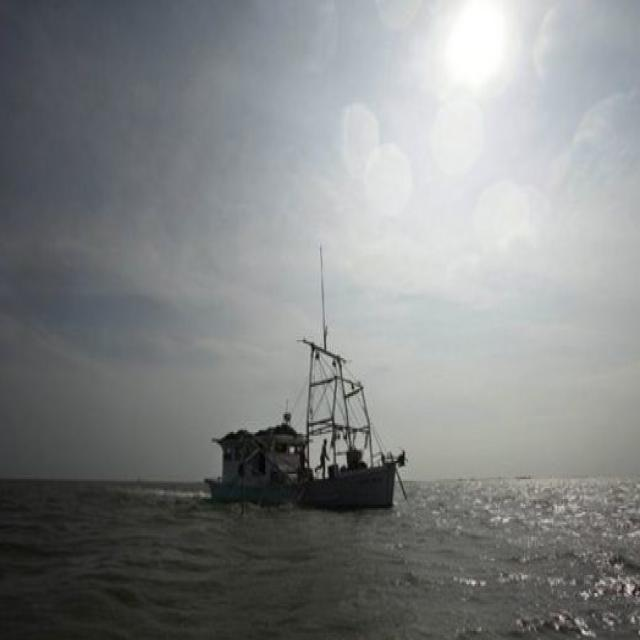fishing boat: (208, 254, 408, 509)
